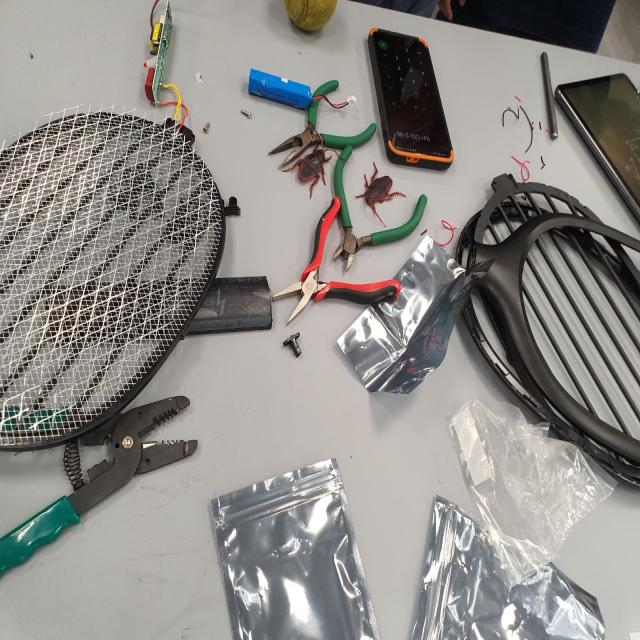Cockroach: (347, 150, 413, 233), (286, 122, 348, 206)
